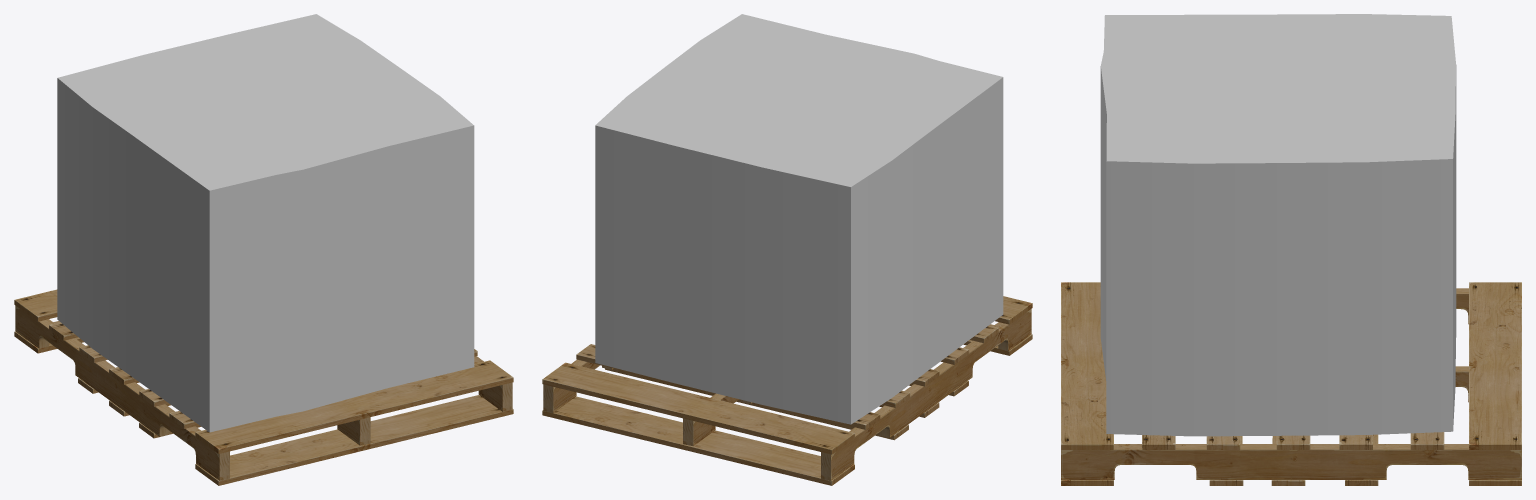
The model's file is Warehouse_Pallet_Single_1.FBX.
The picture shows the model from 3 angles, left to right: view 1: azimuth 30°, elevation 25°; view 2: azimuth 150°, elevation 25°; view 3: azimuth 270°, elevation 25°; orthographic projection. The views are drawn at different scales.
Visible parts, largest first — view 1: Warehouse_Pallet_Single_1; view 2: Warehouse_Pallet_Single_1; view 3: Warehouse_Pallet_Single_1.
Part boxes in pixels (x1=…): Warehouse_Pallet_Single_1: x1=14, y1=14, x2=513, y2=485; Warehouse_Pallet_Single_1: x1=542, y1=14, x2=1032, y2=485; Warehouse_Pallet_Single_1: x1=1061, y1=14, x2=1521, y2=485.
Bounding box in the file's own units: 40 × 36.12 × 48.
